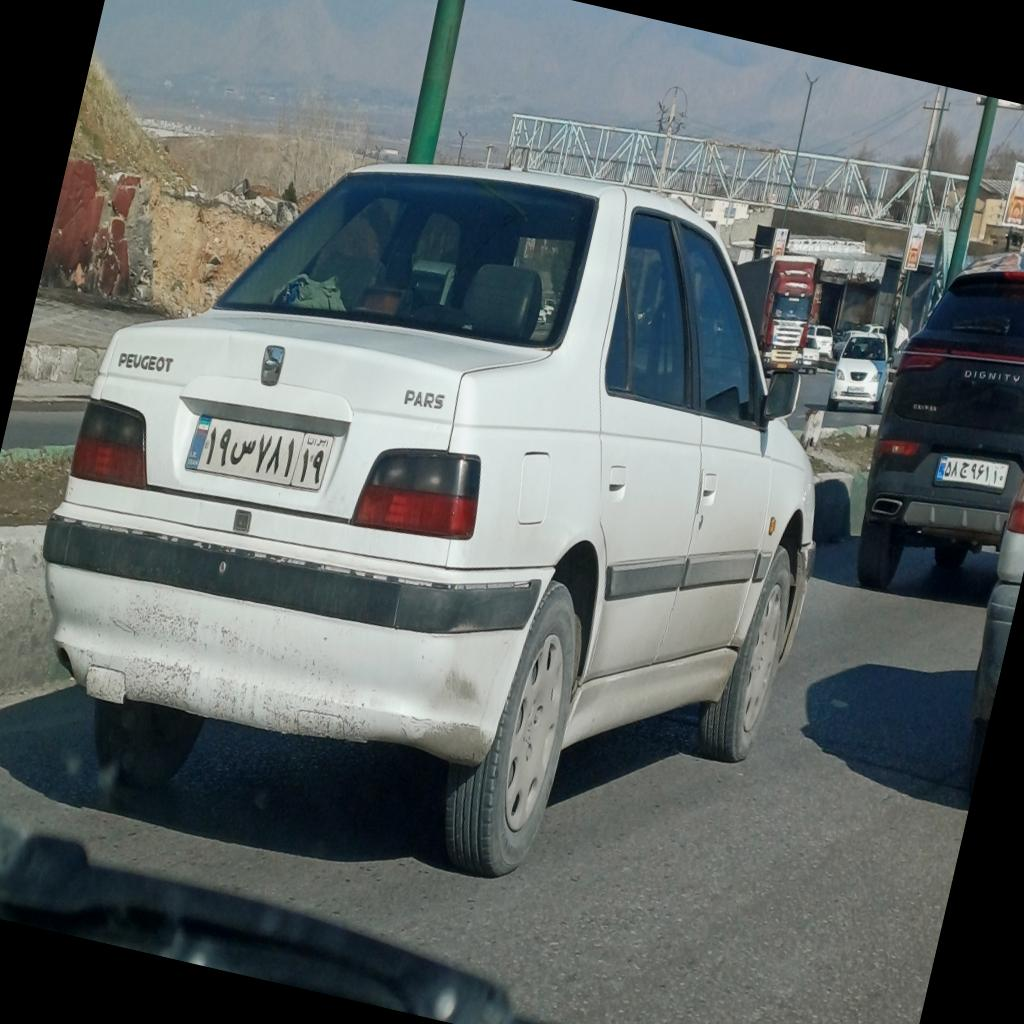Plates: (182, 404, 338, 506), (934, 448, 1010, 500)
